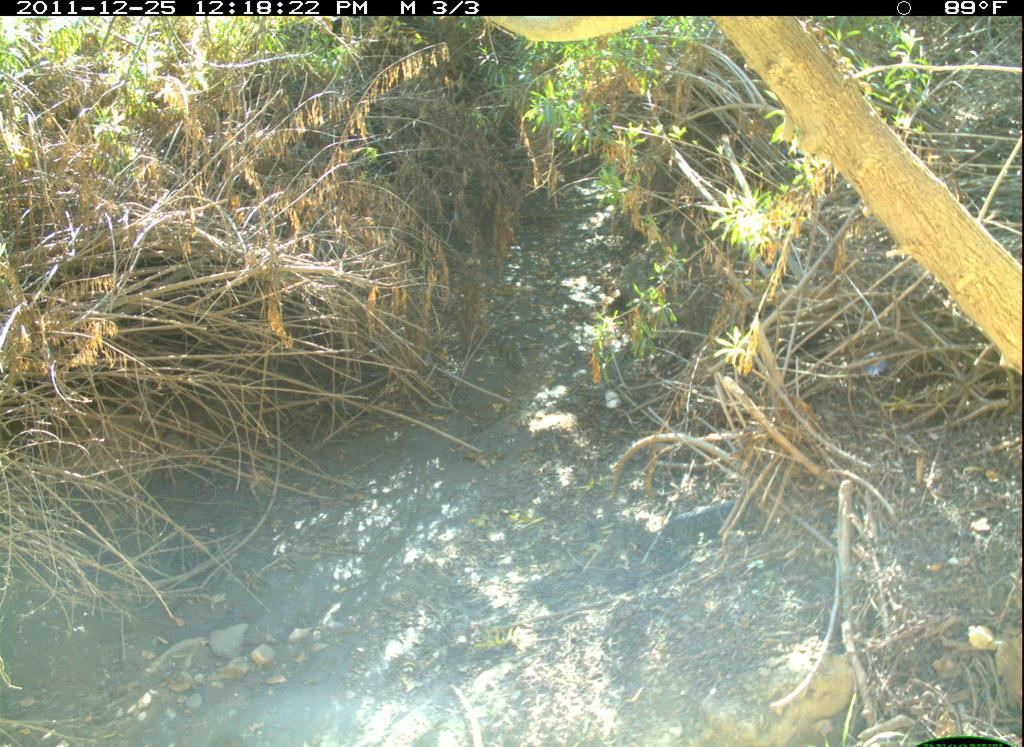squirrel: (497, 331, 533, 370)
